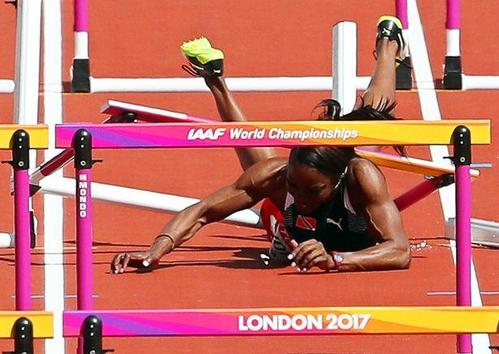fall: (113, 12, 438, 297)
